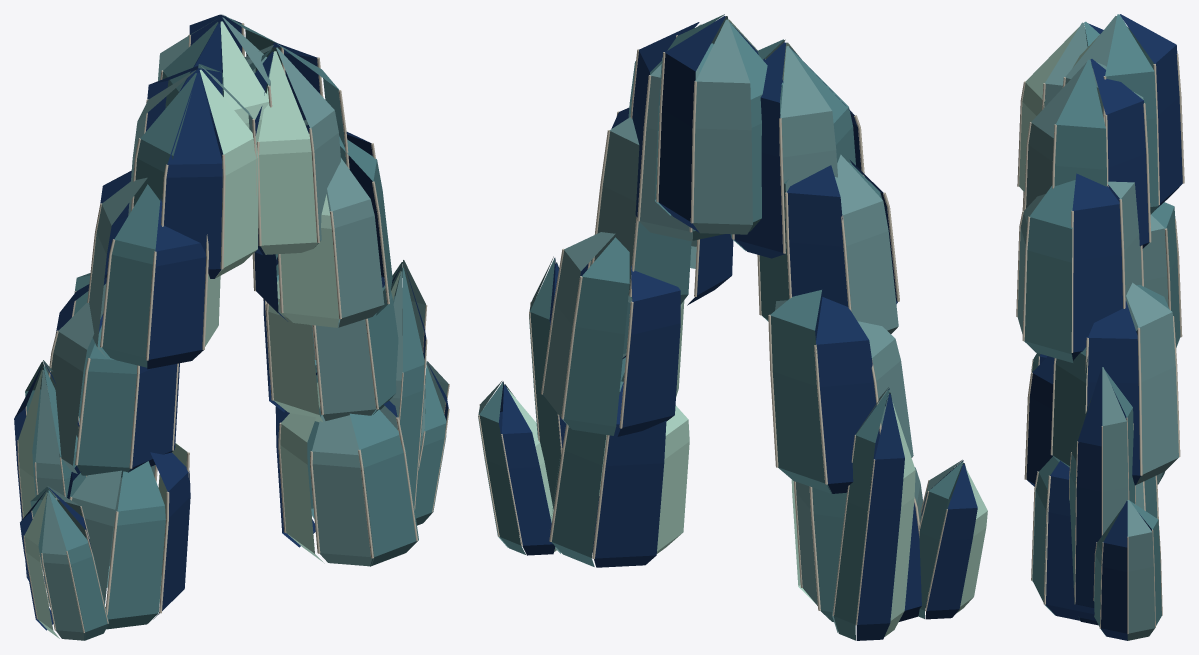
Rendered from vista_cryo.glb.
The picture shows the model from 3 angles, left to right: view 1: azimuth 30°, elevation 25°; view 2: azimuth 150°, elevation 25°; view 3: azimuth 270°, elevation 25°; orthographic projection. The views are drawn at different scales.
Visible parts, largest first — view 1: vista_cryo; view 2: vista_cryo; view 3: vista_cryo.
Part boxes in pixels (x1,y1,x2,y2): vista_cryo: [14, 14, 449, 640]; vista_cryo: [478, 14, 987, 640]; vista_cryo: [1016, 14, 1184, 640].
Size of the model in its own units: 15.91 by 18.4 by 5.29.
